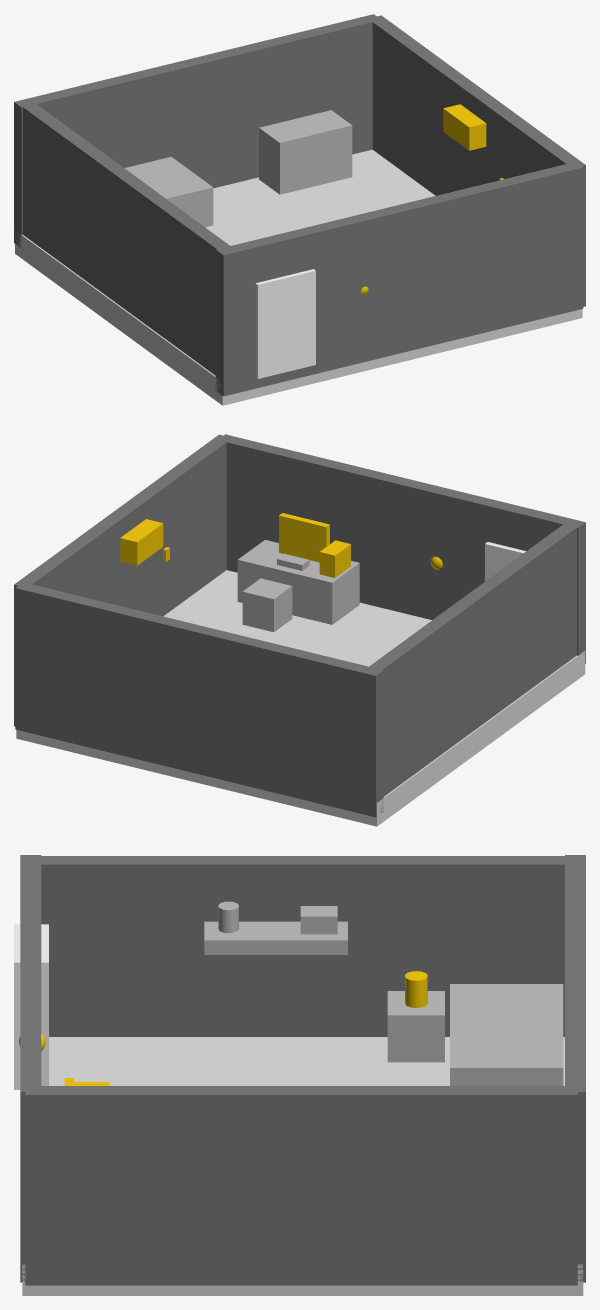
Rendered from Bedroom.fbx.
The picture shows the model from 3 angles, top to bottom: view 1: azimuth 30°, elevation 25°; view 2: azimuth 150°, elevation 25°; view 3: azimuth 270°, elevation 25°; orthographic projection. The views are drawn at different scales.
Visible parts, largest first — view 1: Wall_2, Wall, Wall_1, Floor, Wall_3, Bookshelf, Door_bed, Bed, AC; view 2: Wall, Wall_2, Wall_1, Wall_3, Floor, Desk, Desk__1_, Obj_TV, AC, Desk__3_, Door_bed; view 3: Wall_3, Wall_1, Floor, Bed, Wall, Wall_2, Platform, Bed_table, Door_bed, Books, Cylinder, Pot.
Part boxes in pixels (x1,y1,x2,y2): Wall_2: [215, 162, 583, 396]; Wall: [14, 14, 381, 247]; Wall_1: [19, 100, 235, 375]; Floor: [15, 149, 582, 405]; Wall_3: [368, 15, 585, 306]; Bookshelf: [259, 110, 352, 194]; Door_bed: [255, 269, 315, 378]; Bed: [124, 156, 213, 227]; AC: [443, 104, 486, 150]; Wall: [15, 582, 383, 817]; Wall_2: [218, 434, 585, 663]; Wall_1: [364, 520, 582, 796]; Wall_3: [14, 434, 231, 726]; Floor: [16, 570, 585, 826]; Desk: [237, 540, 359, 624]; Desk__1_: [242, 578, 292, 632]; Obj_TV: [279, 513, 329, 562]; AC: [120, 519, 163, 565]; Desk__3_: [319, 540, 350, 577]; Door_bed: [485, 542, 525, 581]; Wall_3: [25, 1086, 577, 1285]; Wall_1: [25, 856, 572, 1036]; Floor: [22, 1037, 583, 1295]; Bed: [450, 984, 563, 1085]; Wall: [565, 855, 585, 1282]; Wall_2: [20, 855, 41, 1282]; Platform: [204, 921, 347, 954]; Bed_table: [387, 991, 444, 1062]; Door_bed: [14, 924, 48, 1089]; Books: [300, 906, 337, 934]; Cylinder: [405, 971, 427, 1007]; Pot: [218, 901, 238, 932].
Size of what is drawn, in the model's own units: 810 by 322 by 816.
